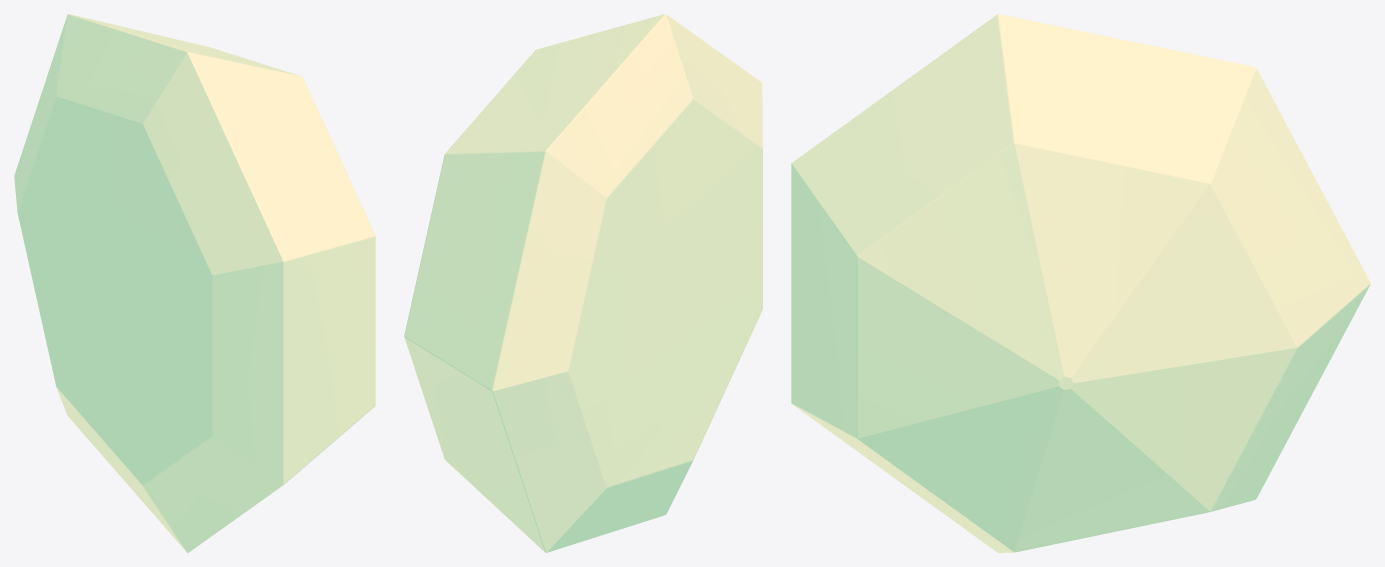
Rendered from SM_RV_Core.fbx.
3 views of the same model, side by side, from view 1: azimuth 30°, elevation 25°; view 2: azimuth 150°, elevation 25°; view 3: azimuth 270°, elevation 25° (orthographic). The views are drawn at different scales.
Parts seen in each view (by area): view 1: SM_RV_Core; view 2: SM_RV_Core; view 3: SM_RV_Core.
Part boxes in pixels (bbox=[...]): SM_RV_Core: bbox=[14, 14, 375, 552]; SM_RV_Core: bbox=[404, 14, 762, 552]; SM_RV_Core: bbox=[791, 14, 1370, 552].
Bounding box in the file's own units: 12.33 × 6 × 12.65.
